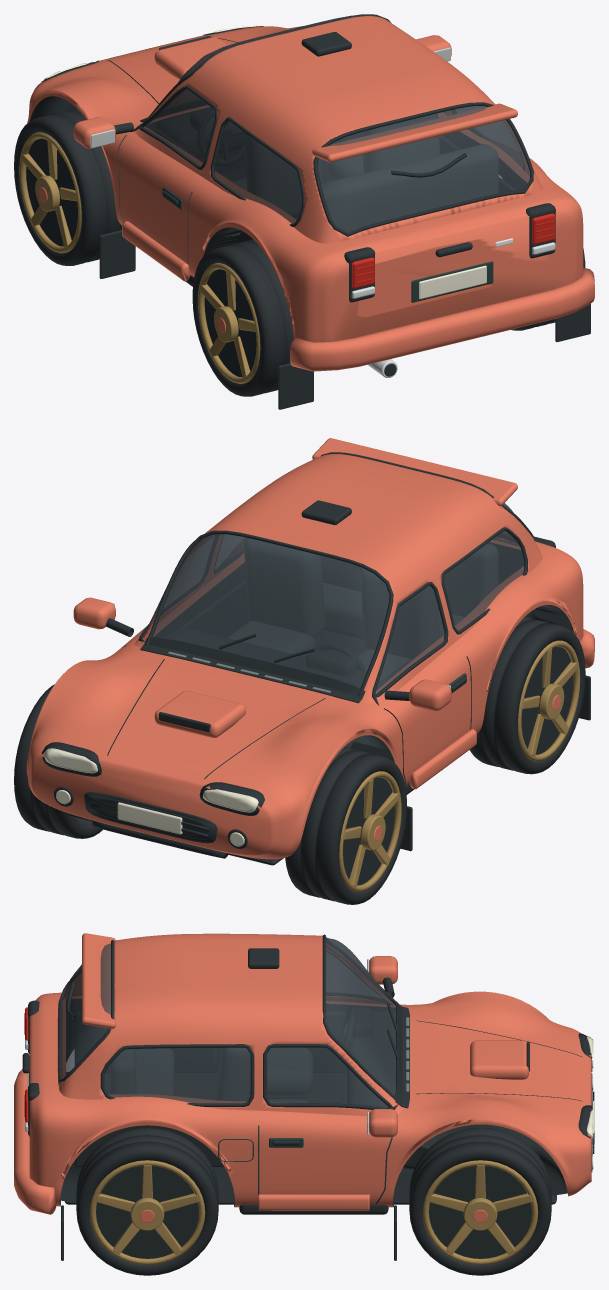
The model's file is kitsune.fbx.
3 renders of one model, top to bottom at view 1: azimuth 30°, elevation 25°; view 2: azimuth 150°, elevation 25°; view 3: azimuth 270°, elevation 25°, orthographic. The views are drawn at different scales.
Visible parts, largest first — view 1: Body, Wheel_RL_Mesh, Wheel_FL_Mesh; view 2: Body, Wheel_FL_Mesh, Wheel_RL_Mesh, Wheel_FR_Mesh; view 3: Body, Wheel_RR_Mesh, Wheel_FR_Mesh.
Part boxes in pixels (box(x1,y1,x2,y2)): Body: box(27, 14, 594, 409); Wheel_RL_Mesh: box(192, 239, 293, 396); Wheel_FL_Mesh: box(14, 108, 121, 265); Body: box(26, 438, 594, 865); Wheel_FL_Mesh: box(285, 747, 406, 904); Wheel_RL_Mesh: box(470, 617, 585, 774); Wheel_FR_Mesh: box(14, 684, 102, 838); Body: box(14, 933, 594, 1260); Wheel_RR_Mesh: box(76, 1128, 218, 1275); Wheel_FR_Mesh: box(409, 1128, 551, 1275).
Size of the model in its own units: 229 by 159 by 335.
